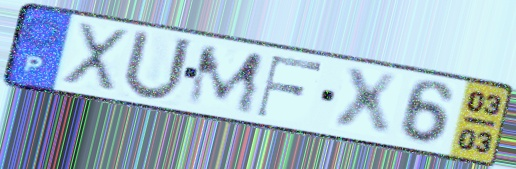6: (397, 78, 458, 148)
F: (252, 54, 327, 120)
M: (183, 43, 268, 116)
U: (118, 26, 196, 104)
X: (57, 19, 132, 96), (332, 65, 402, 139)
